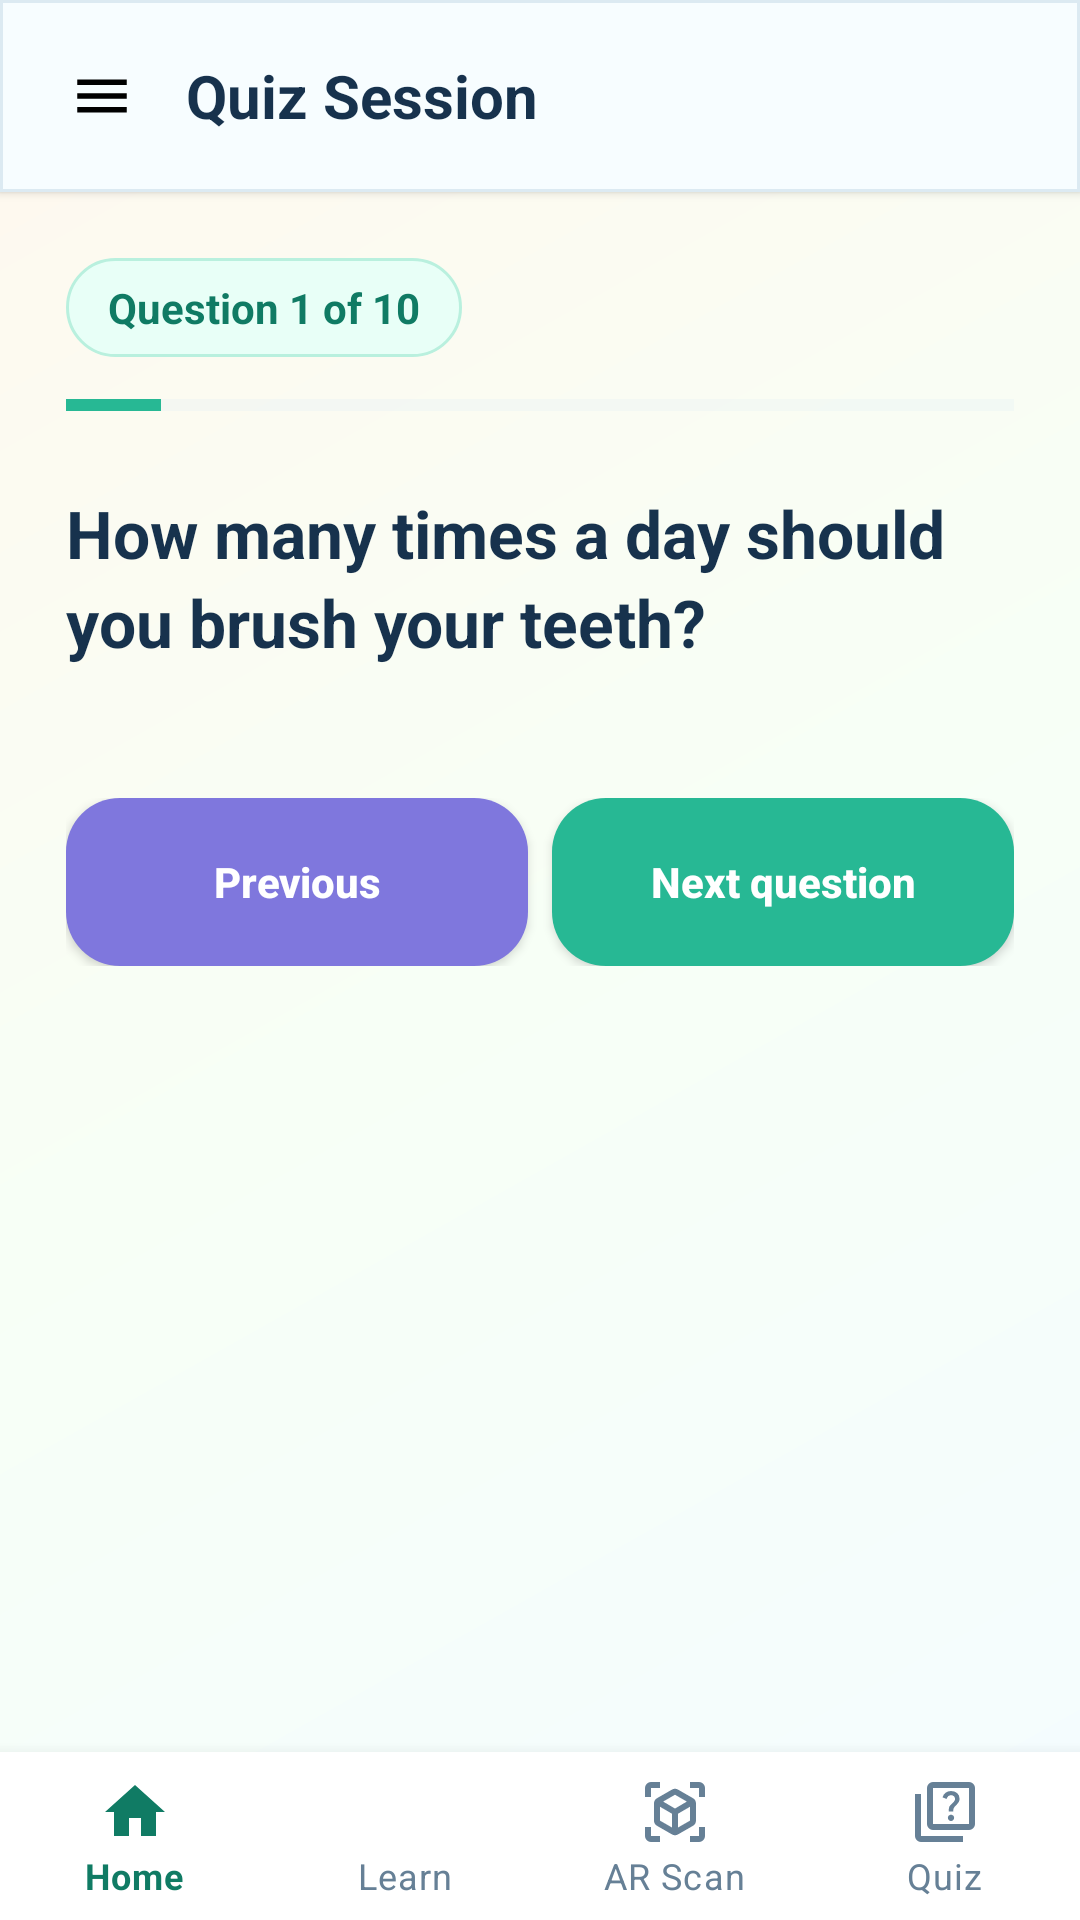

Screen size 1080px x 1920px. Icon name, then its box in pixels as detection(x1, y1, x2, y2):
Menu: detection(77, 79, 127, 113)
